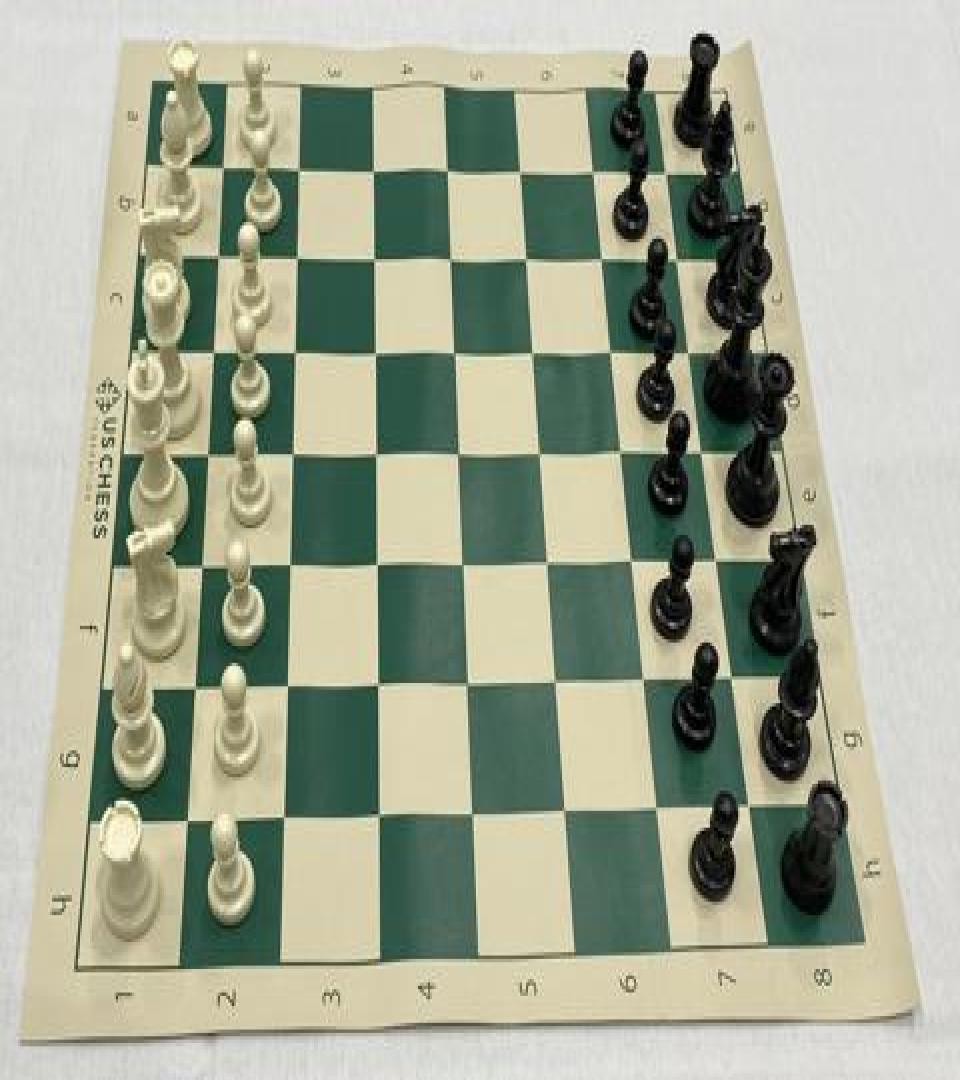xcorner: (362, 146, 384, 184), (287, 146, 309, 184), (211, 144, 233, 182), (707, 538, 729, 576), (184, 664, 206, 702), (437, 148, 459, 185), (668, 237, 690, 274), (593, 237, 615, 274), (285, 234, 307, 271), (206, 234, 228, 271), (693, 431, 715, 468), (612, 431, 634, 468), (530, 431, 552, 468), (448, 431, 470, 468), (365, 432, 387, 469), (281, 432, 303, 469), (196, 432, 218, 469), (623, 540, 645, 577), (538, 540, 560, 577), (723, 656, 745, 693), (635, 658, 657, 695), (457, 661, 479, 698), (367, 661, 389, 698), (276, 663, 298, 700), (739, 784, 761, 821), (462, 791, 484, 828), (368, 792, 390, 829), (273, 794, 295, 831), (656, 152, 678, 188), (584, 150, 606, 186), (510, 150, 532, 186), (517, 236, 539, 272), (440, 236, 462, 272), (363, 236, 385, 272), (680, 332, 702, 368), (602, 330, 624, 366), (523, 330, 545, 366), (444, 330, 466, 366), (364, 330, 386, 366), (283, 330, 305, 366), (201, 330, 223, 366), (452, 542, 474, 578), (366, 542, 388, 578), (278, 544, 300, 580), (190, 544, 212, 580), (547, 660, 569, 696), (648, 786, 670, 822), (556, 788, 578, 824), (177, 798, 199, 834)
